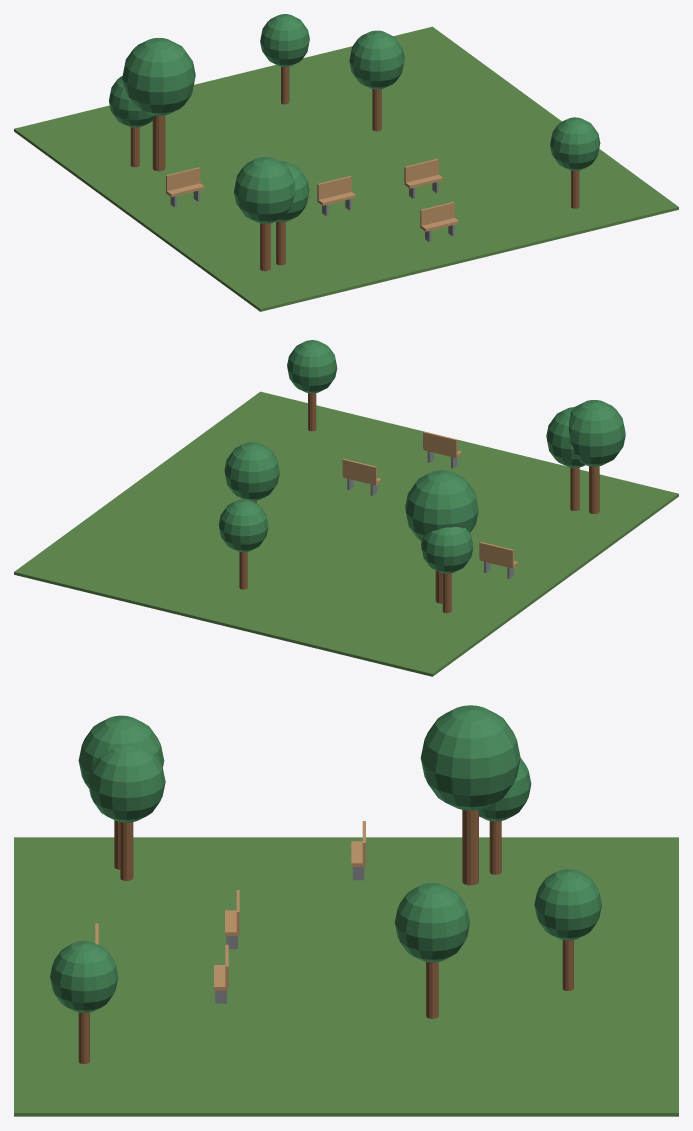
File: Park_001.glb
3 renders of one model, top to bottom at view 1: azimuth 30°, elevation 25°; view 2: azimuth 150°, elevation 25°; view 3: azimuth 270°, elevation 25°, orthographic. The views are drawn at different scales.
Parts seen in each view (by area): view 1: Park_001; view 2: Park_001; view 3: Park_001.
Boxes of the visible parts, x1=… form: Park_001: x1=14, y1=14, x2=678, y2=311; Park_001: x1=14, y1=340, x2=678, y2=676; Park_001: x1=14, y1=705, x2=678, y2=1116.
Bounding box in the file's own units: 25.14 × 7.49 × 25.64.
